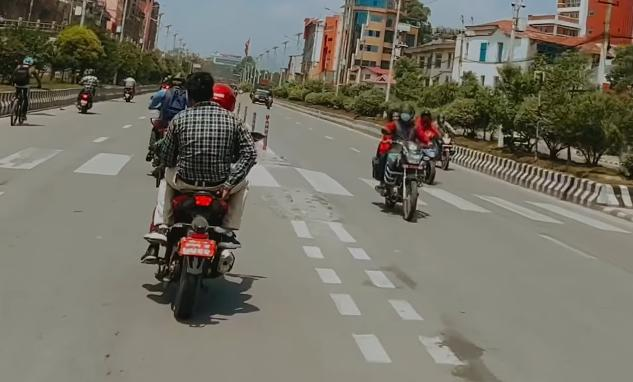bike: (144, 118, 264, 321), (372, 128, 437, 228)
